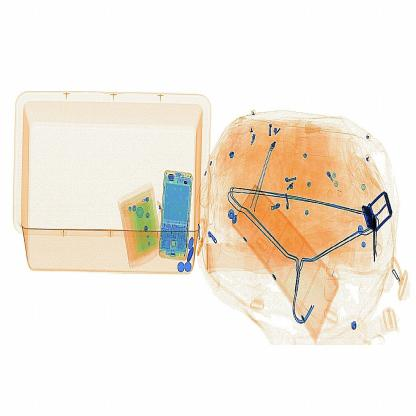knife: (361, 206, 391, 270)
